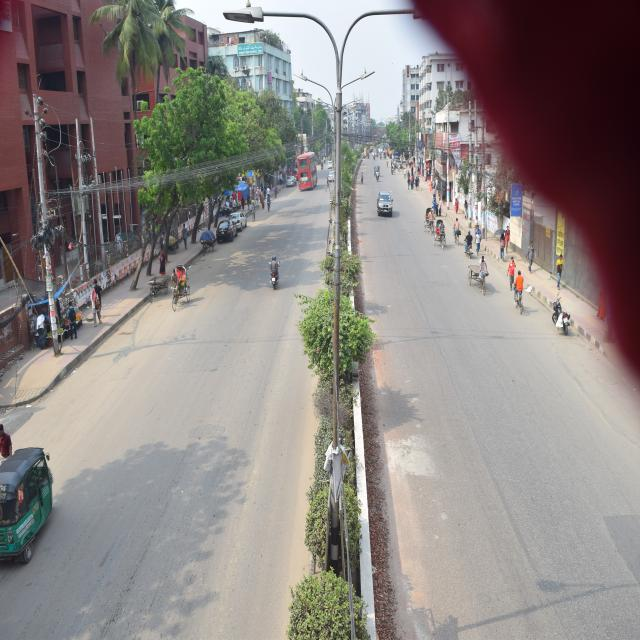bus: (296, 147, 319, 203)
car: (375, 188, 400, 223), (222, 206, 246, 231), (216, 218, 236, 241)
motorbike: (548, 274, 567, 340), (264, 248, 292, 291)
